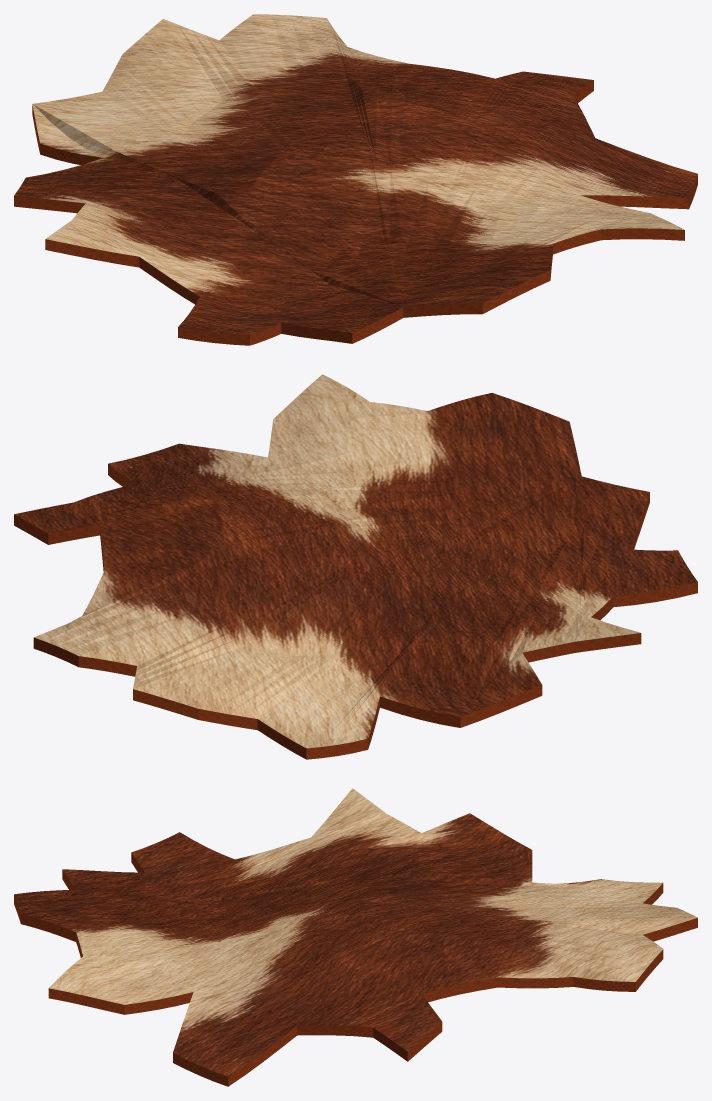
The model's file is cow_hide.obj.
3 views of the same model, one above another, from view 1: azimuth 30°, elevation 25°; view 2: azimuth 150°, elevation 25°; view 3: azimuth 270°, elevation 25° (orthographic). The views are drawn at different scales.
Parts seen in each view (by area): view 1: sheet; view 2: sheet; view 3: sheet.
Part boxes in pixels (x1,y1,x2,y2): sheet: (14,14,697,345); sheet: (14,374,697,759); sheet: (14,788,697,1086).
Bounding box in the file's own units: 112 × 13.42 × 123.
1 material, 1 textured.
